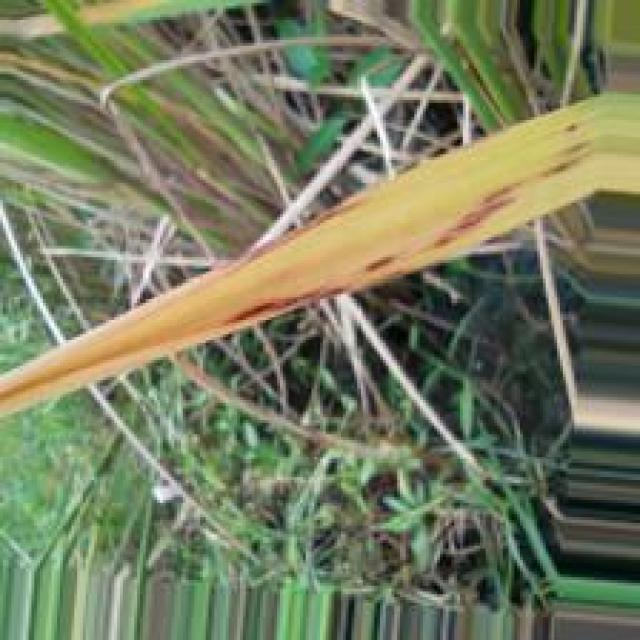Narrow_Brown_Leaf_Spot: (0, 106, 599, 419)
